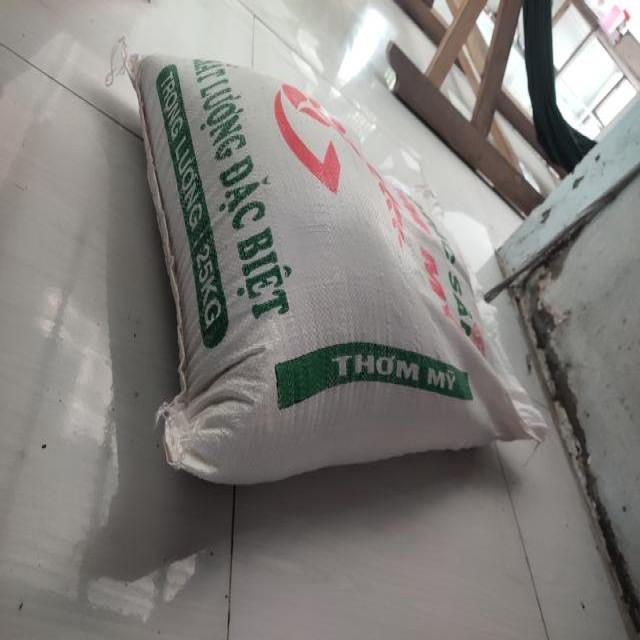gunny_bag: (133, 56, 547, 485)
